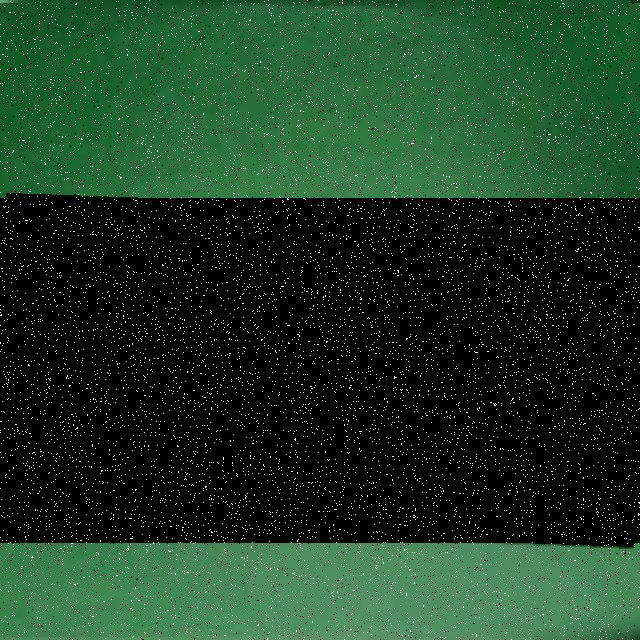dua ribu rupiah: (0, 198, 640, 543)
